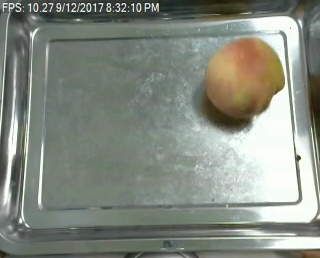Peach: (205, 36, 284, 119)
